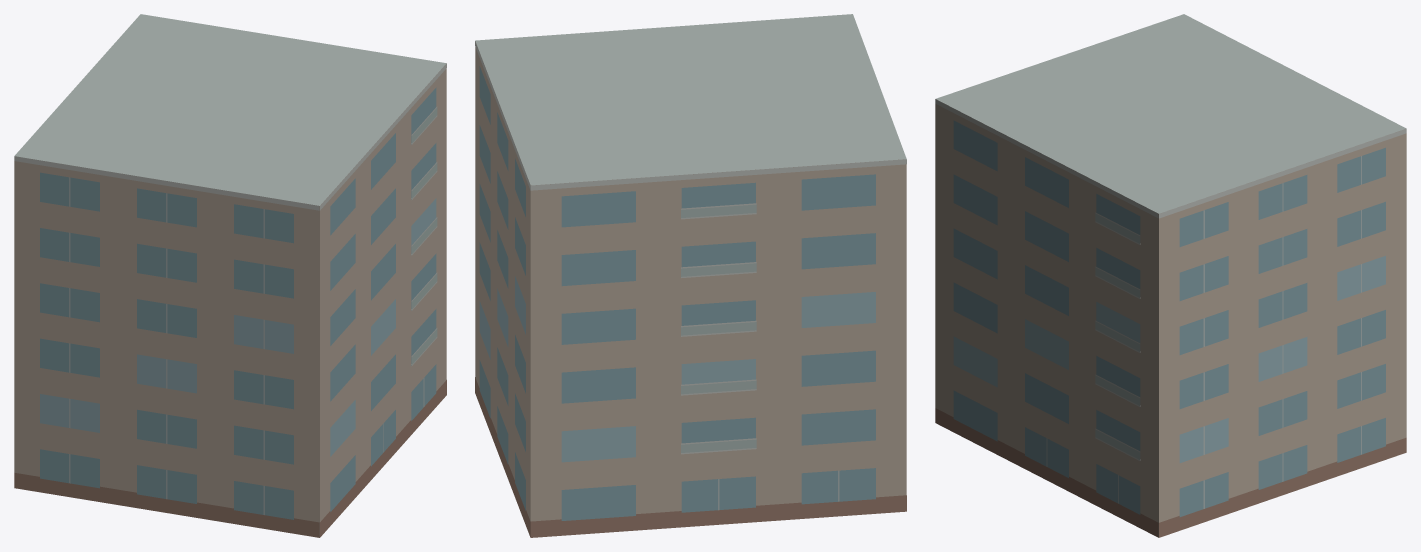
The model's file is survey-upis-32979007.glb.
The picture shows the model from 3 angles, left to right: view 1: azimuth 30°, elevation 25°; view 2: azimuth 150°, elevation 25°; view 3: azimuth 270°, elevation 25°; orthographic projection. The views are drawn at different scales.
Parts seen in each view (by area): view 1: survey-upis-32979007.tmp; view 2: survey-upis-32979007.tmp; view 3: survey-upis-32979007.tmp.
Boxes of the visible parts, box(x1,y1,x2,y2) form: survey-upis-32979007.tmp: box(14, 14, 446, 537); survey-upis-32979007.tmp: box(475, 14, 906, 537); survey-upis-32979007.tmp: box(935, 14, 1406, 537).
Bounding box in the file's own units: 21.96 × 16.6 × 21.89.
